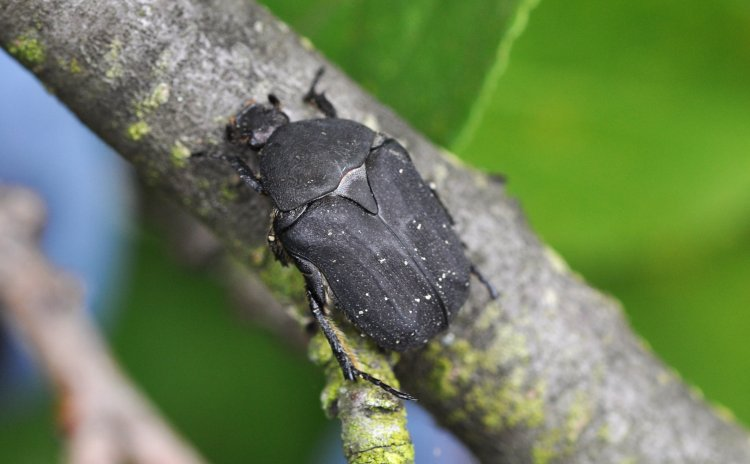Protaetia_morio_morio: (225, 61, 517, 405)
